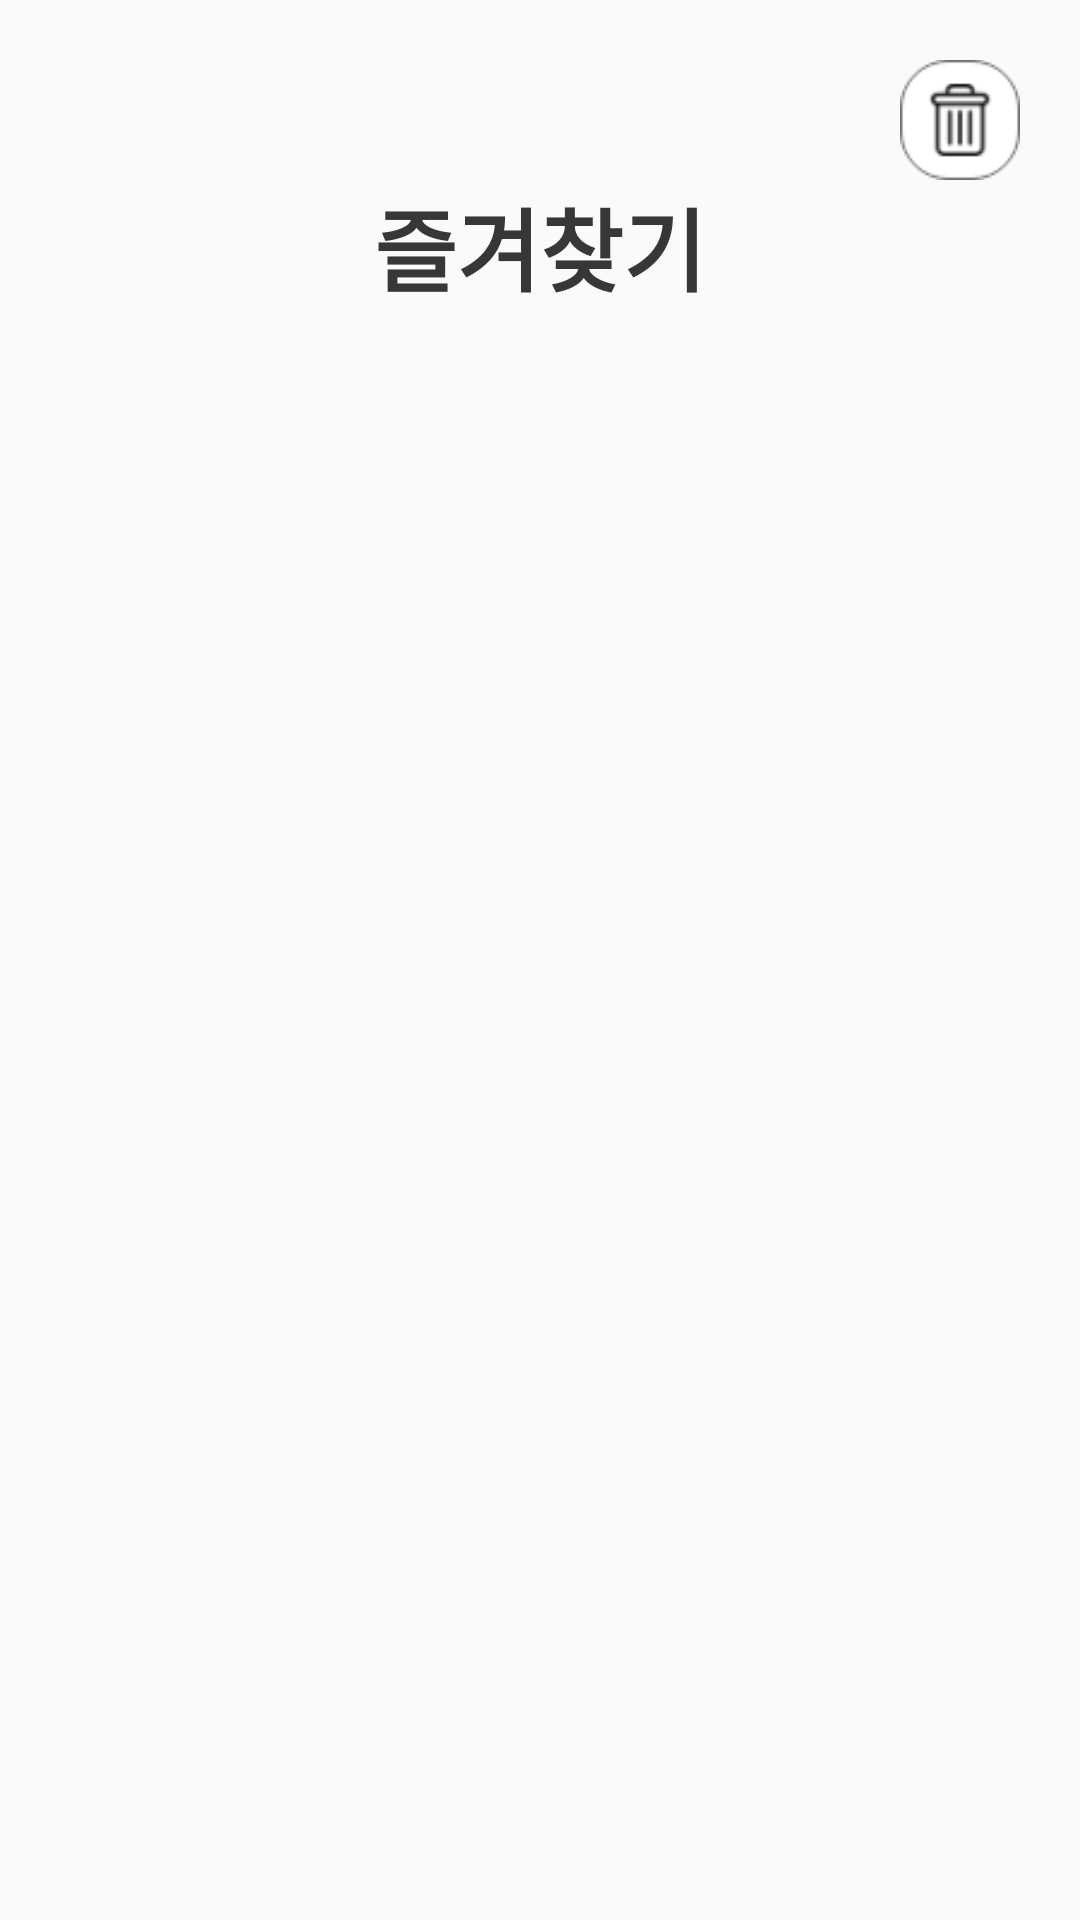

Screen size 1080w x 1920h. Icon name, then its center in pixels as point (x, y):
delete: point (960, 120)
